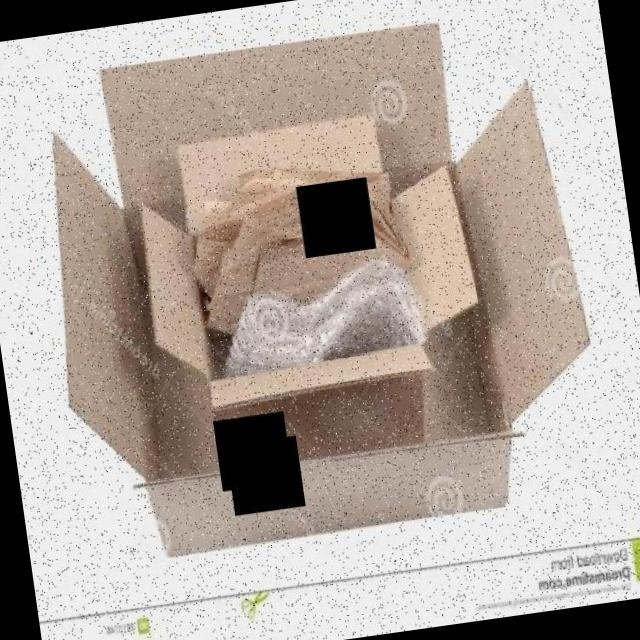box: (18, 2, 616, 580)
